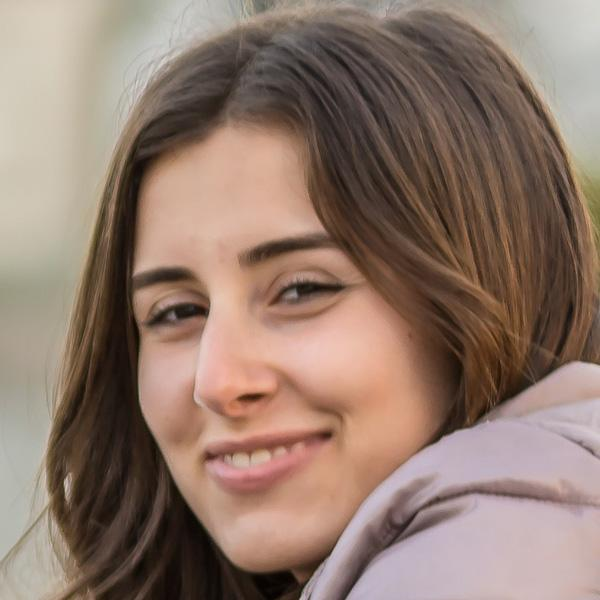Eyes: (258, 259, 354, 324), (138, 282, 215, 346)
